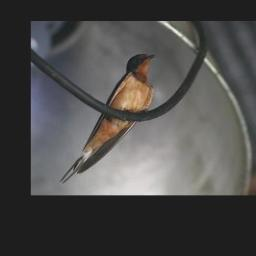Swallow: (55, 50, 160, 185)
